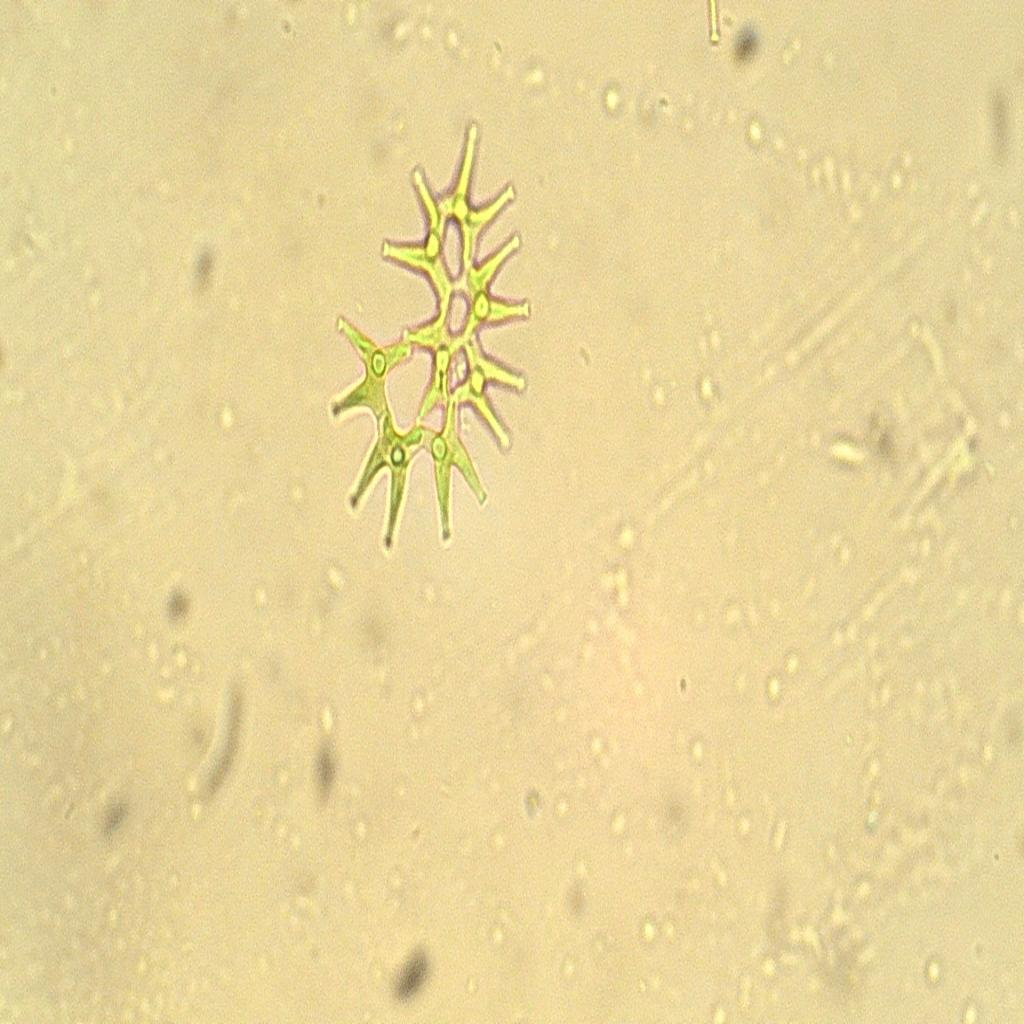Pediastrum_CFI: (317, 105, 537, 560)
